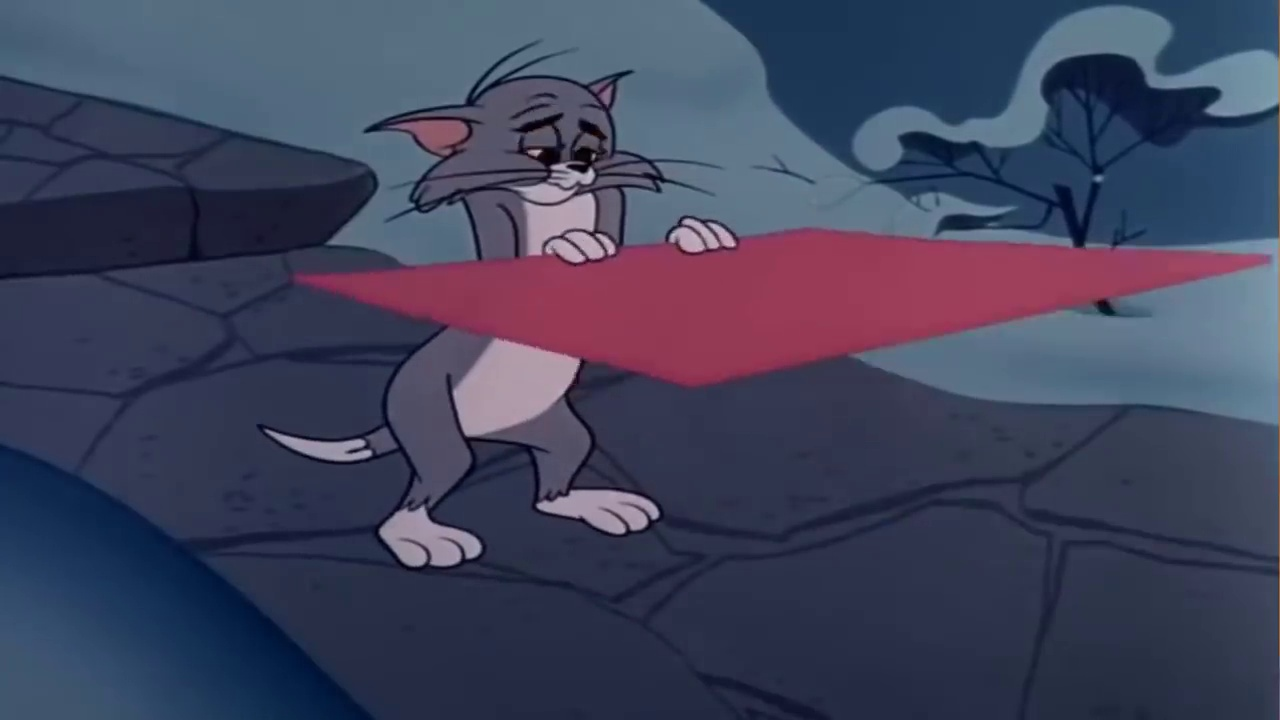face: (503, 110, 624, 204)
